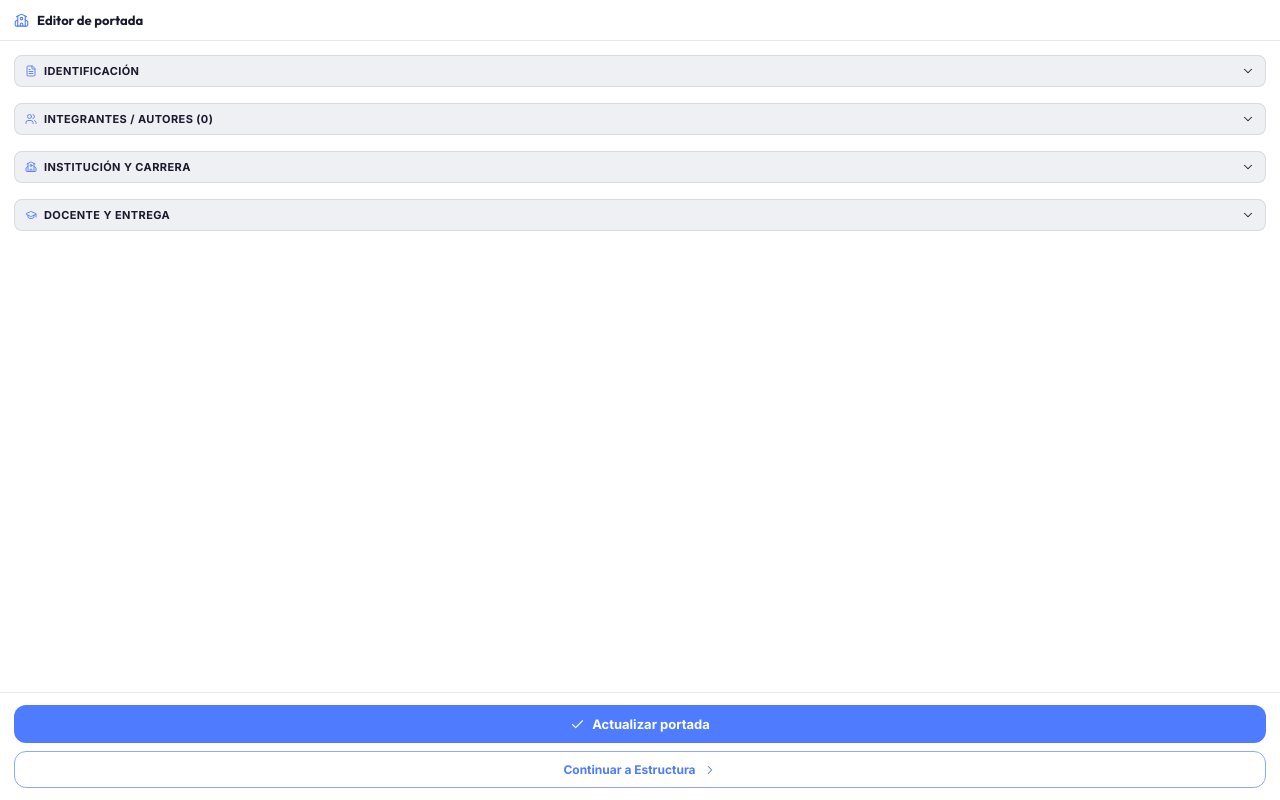
Test: el formulario se agrupa en secciones plegables › la institución y la carrera arrancan cerradas y se abren con su disparador
Click the button "Institución y carrera": {"x": 117, "y": 167} [14,151,1266,183]
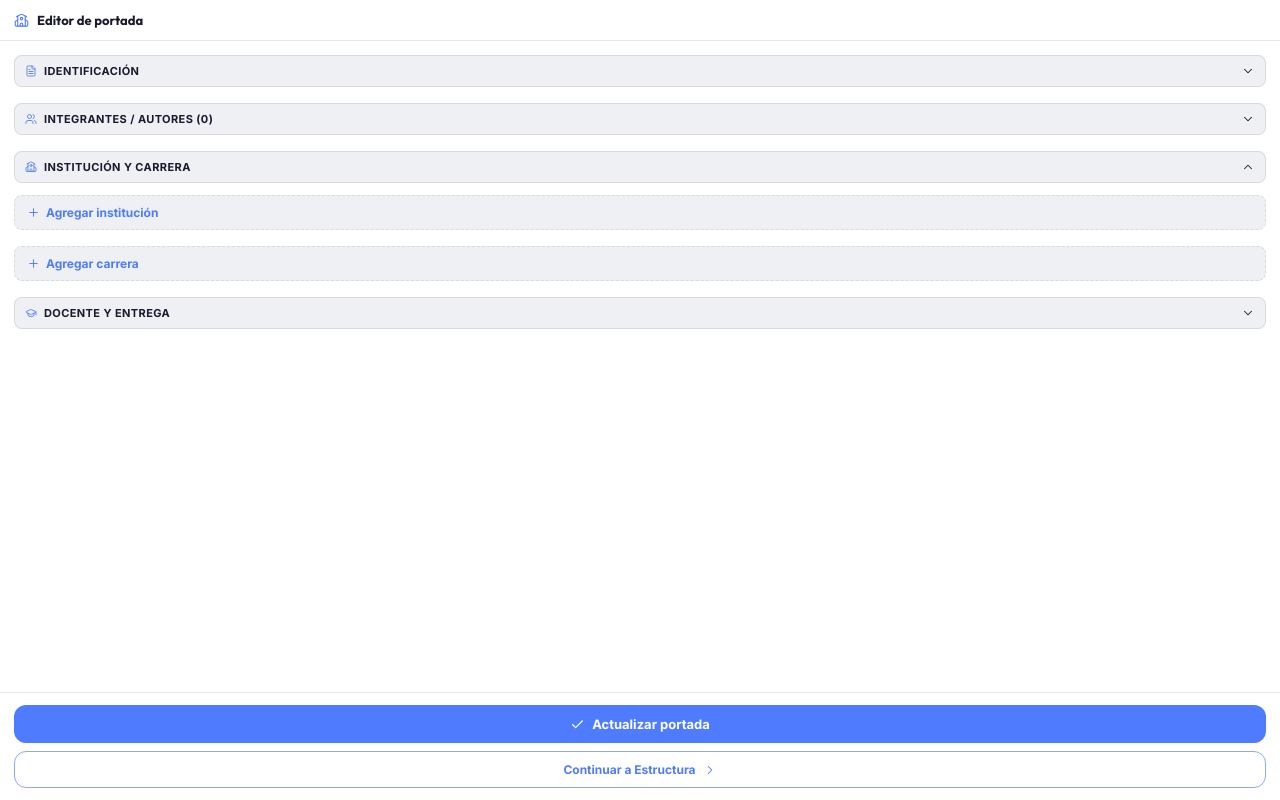
Now the button "Agregar institución" is shown, box [14,195,1266,230]
